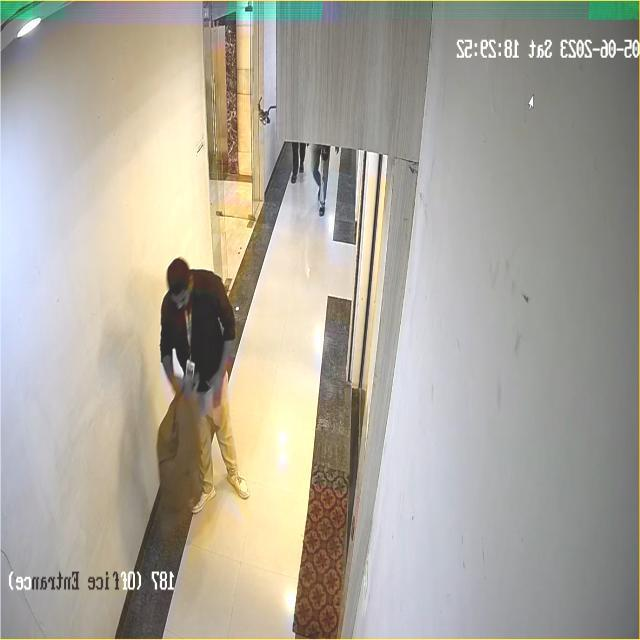gunny_bag: (154, 388, 213, 532)
